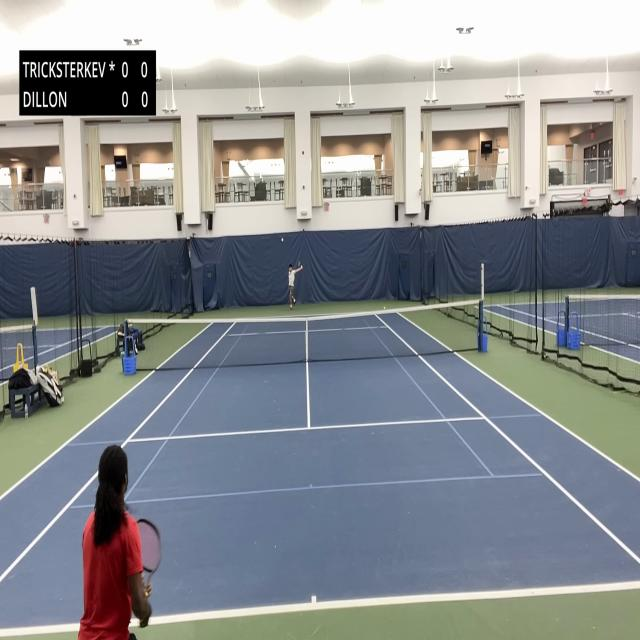ball: (281, 237, 284, 243), (384, 306, 386, 310)
